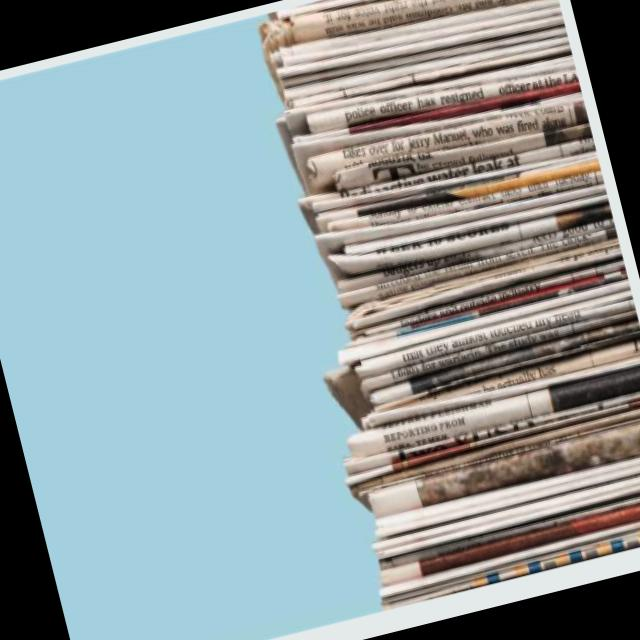Koran: (230, 0, 640, 612)
